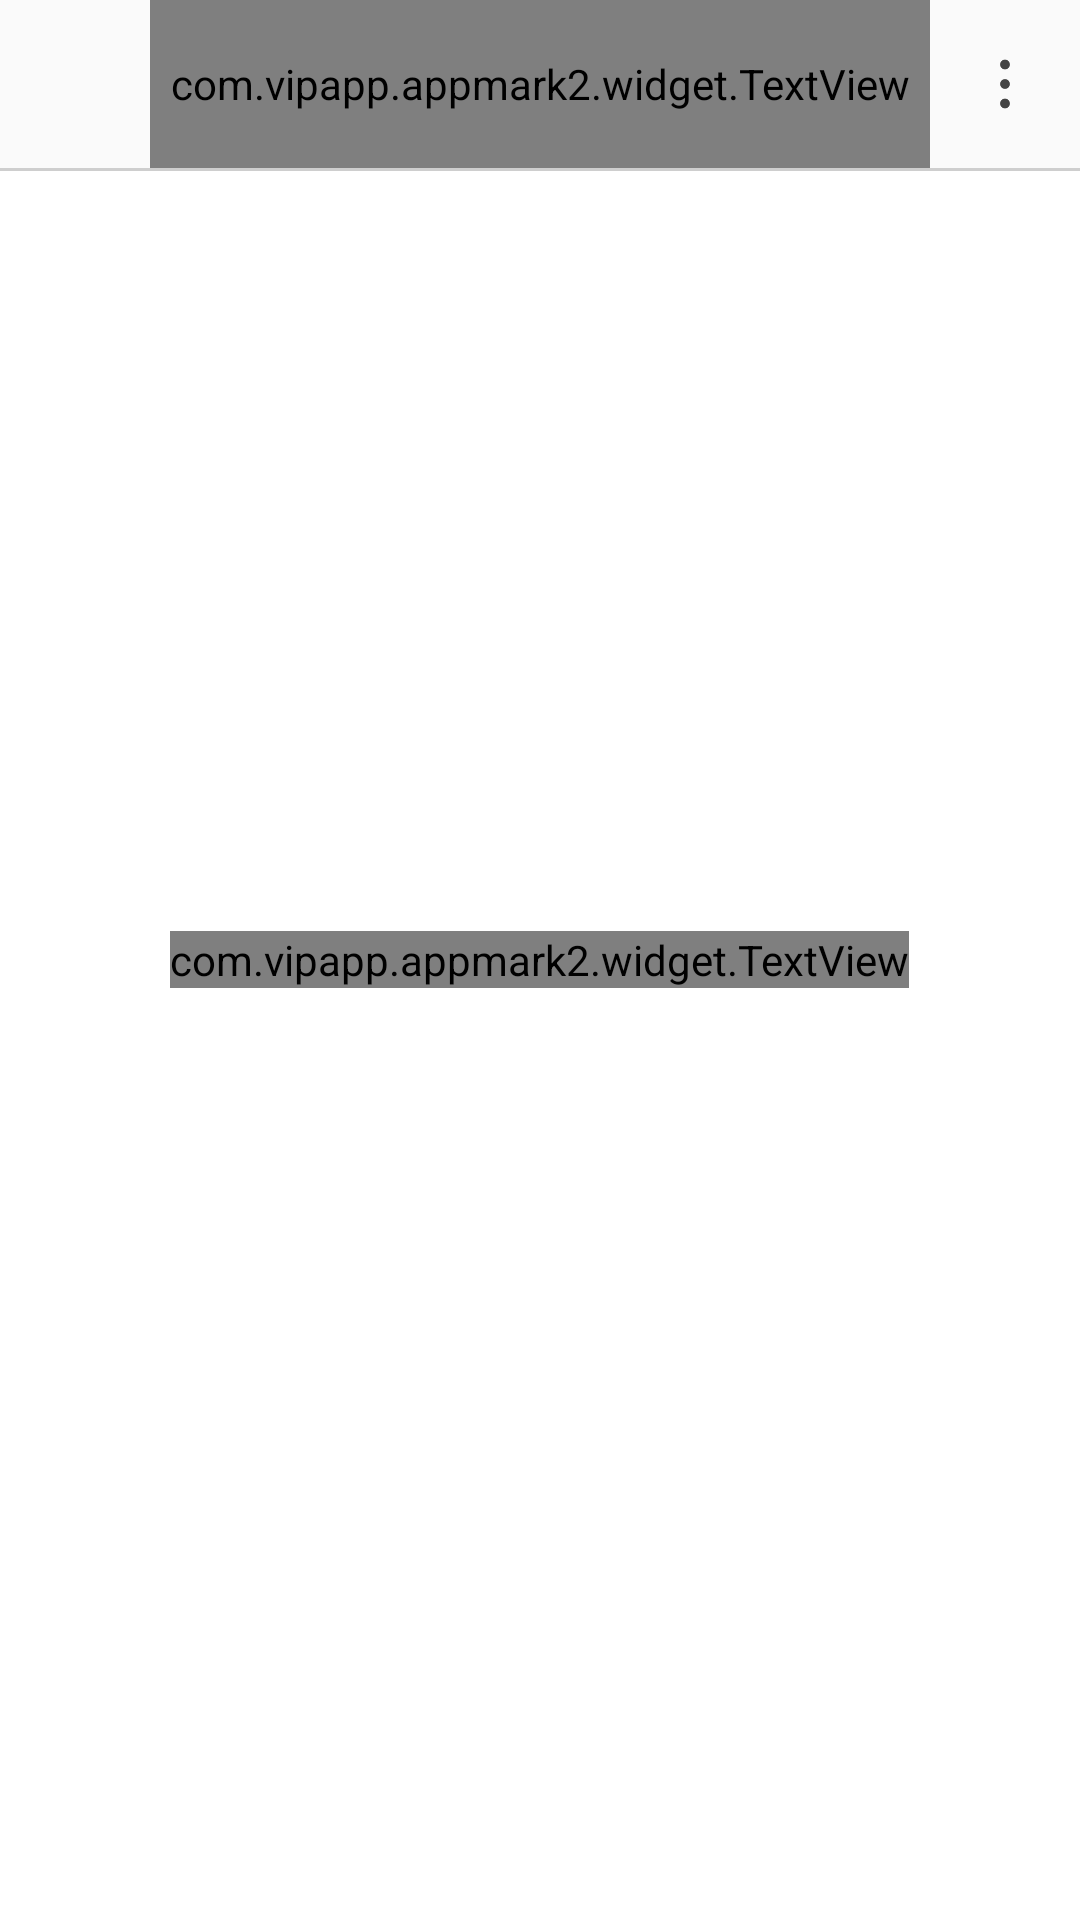

Screen size 1080 x 1920. Icon name, then its center in pixels as [x,y]:
vertical menu: [1005,84]
